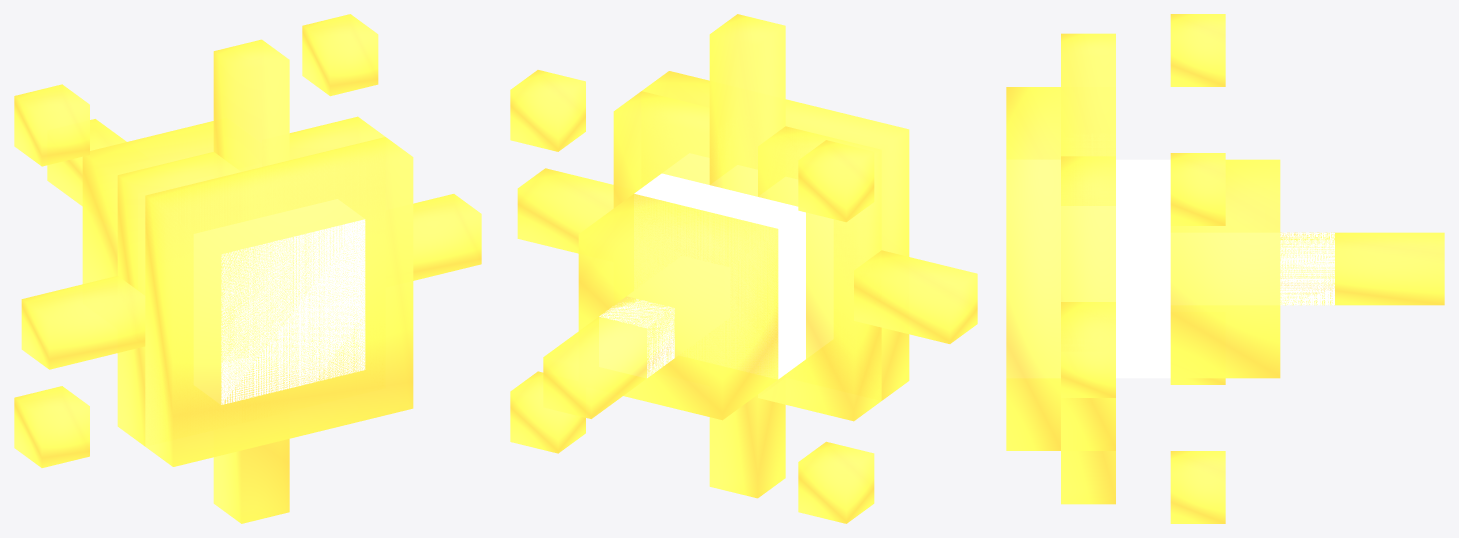
File: muzzle-flash.glb
The picture shows the model from 3 angles, left to right: view 1: azimuth 30°, elevation 25°; view 2: azimuth 150°, elevation 25°; view 3: azimuth 270°, elevation 25°; orthographic projection.
Visible parts, largest first — view 1: layer.glow, layer.core; view 2: layer.glow, layer.core; view 3: layer.glow, layer.core.
Boxes of the visible parts, x1,y1,x2,y2 form: layer.glow: (14,14,481,523); layer.core: (194,200,365,404); layer.glow: (510,14,977,523); layer.core: (599,154,831,379); layer.glow: (1006,14,1444,523); layer.core: (1007,159,1334,378).
Size of the model in its own units: 0.2812 by 0.2812 by 0.25.
